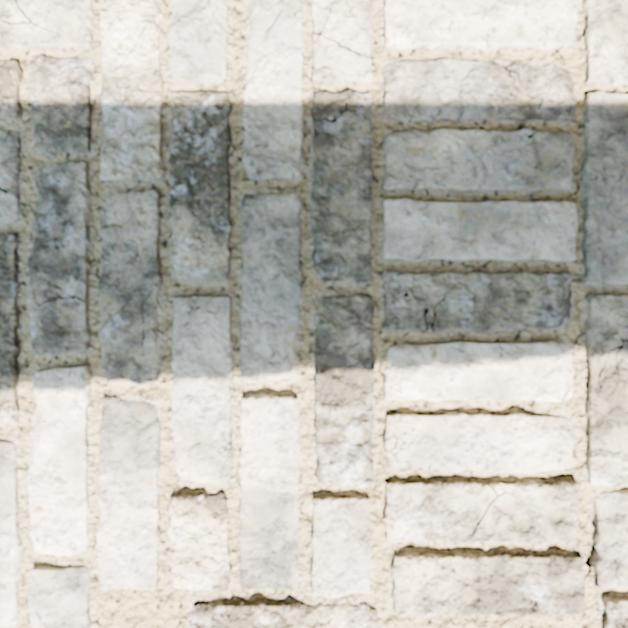brick: (26, 161, 91, 352), (391, 552, 583, 616), (99, 190, 162, 384), (97, 396, 160, 589), (384, 481, 579, 543), (27, 366, 90, 555), (383, 59, 575, 121), (383, 199, 577, 260), (170, 296, 232, 486), (383, 270, 572, 332), (169, 92, 231, 280), (240, 394, 299, 589), (100, 0, 163, 181), (314, 294, 374, 484), (384, 129, 573, 189), (241, 193, 301, 382), (312, 90, 371, 281), (384, 412, 575, 471), (384, 341, 573, 400), (243, 0, 302, 179), (384, 0, 577, 49), (581, 92, 627, 284), (585, 293, 627, 487), (28, 55, 91, 154), (168, 493, 230, 592), (312, 496, 372, 596), (190, 600, 377, 627), (313, 0, 371, 83), (168, 0, 226, 82), (0, 0, 93, 49), (0, 440, 22, 625), (582, 0, 627, 87), (28, 566, 90, 627), (0, 233, 19, 424), (592, 490, 627, 587), (0, 130, 20, 222), (0, 60, 21, 119), (602, 596, 627, 627), (311, 0, 331, 31), (360, 481, 373, 487)
crack: (467, 483, 517, 540), (313, 0, 362, 55), (503, 66, 558, 110), (1, 0, 61, 35), (401, 286, 446, 331), (595, 336, 627, 399), (337, 431, 373, 462), (311, 101, 357, 123), (384, 432, 411, 464), (313, 128, 350, 150), (218, 434, 232, 479), (501, 554, 551, 565), (583, 555, 593, 580), (354, 476, 373, 486), (590, 502, 595, 528), (526, 130, 538, 139), (0, 186, 8, 194), (277, 582, 284, 589)
